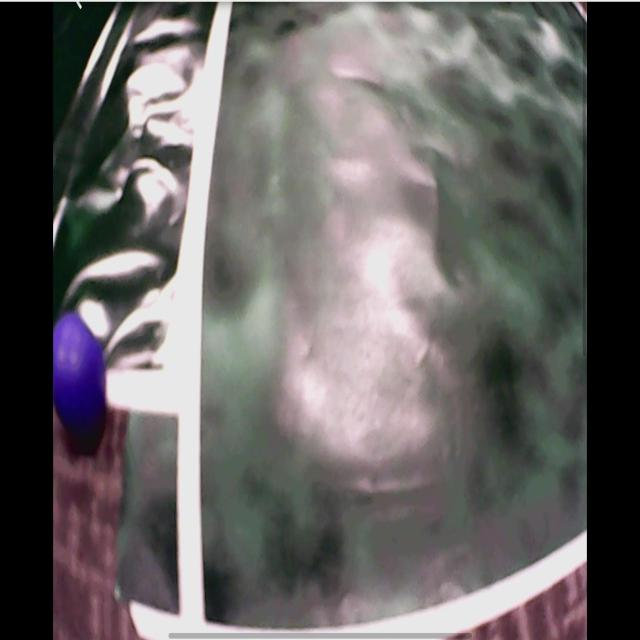ball: (55, 314, 106, 425)
